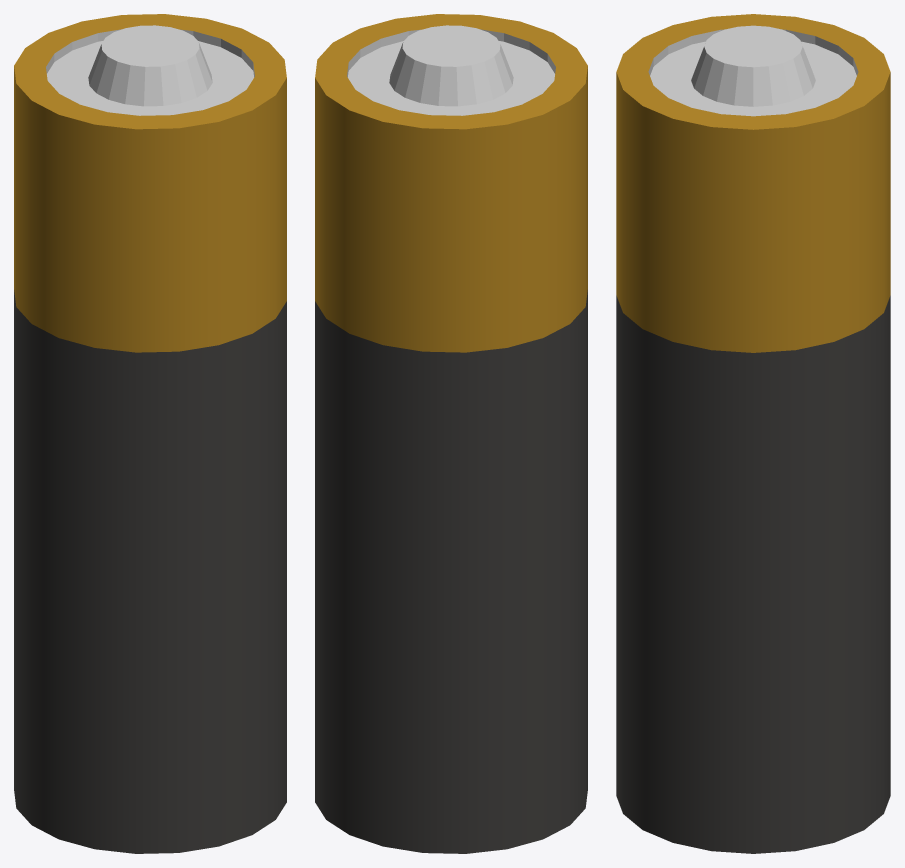
File: Battery.fbx
The picture shows the model from 3 angles, left to right: view 1: azimuth 30°, elevation 25°; view 2: azimuth 150°, elevation 25°; view 3: azimuth 270°, elevation 25°; orthographic projection.
Visible parts, largest first — view 1: pCylinder1; view 2: pCylinder1; view 3: pCylinder1.
Part boxes in pixels (x1,y1,x2,y2): pCylinder1: (14,14,286,853); pCylinder1: (315,14,587,853); pCylinder1: (616,14,890,853).
Bounding box in the file's own units: 4.61 × 13.9 × 4.61.
